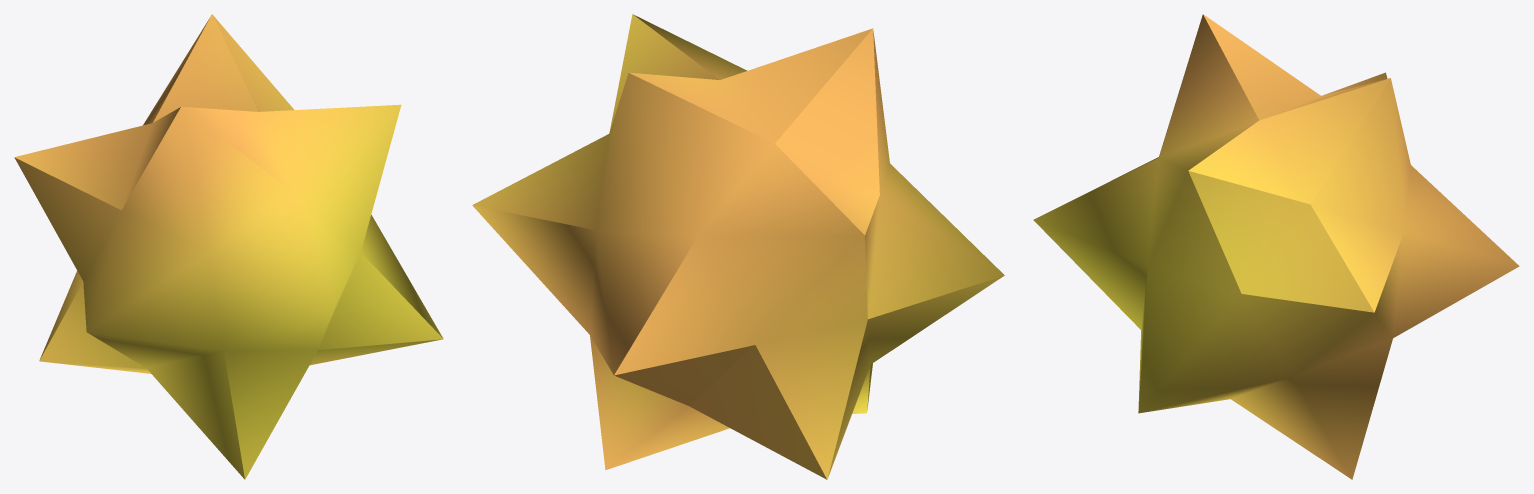
The model's file is Star.fbx.
The picture shows the model from 3 angles, left to right: view 1: azimuth 30°, elevation 25°; view 2: azimuth 150°, elevation 25°; view 3: azimuth 270°, elevation 25°; orthographic projection. The views are drawn at different scales.
Visible parts, largest first — view 1: dodecahedron1; view 2: dodecahedron1; view 3: dodecahedron1.
Boxes of the visible parts, bbox=[...] form: dodecahedron1: bbox=[14, 14, 443, 479]; dodecahedron1: bbox=[472, 14, 1004, 479]; dodecahedron1: bbox=[1033, 14, 1519, 479].
Size of the model in its own units: 11.24 by 10.73 by 12.3.
1 material, 1 textured.
